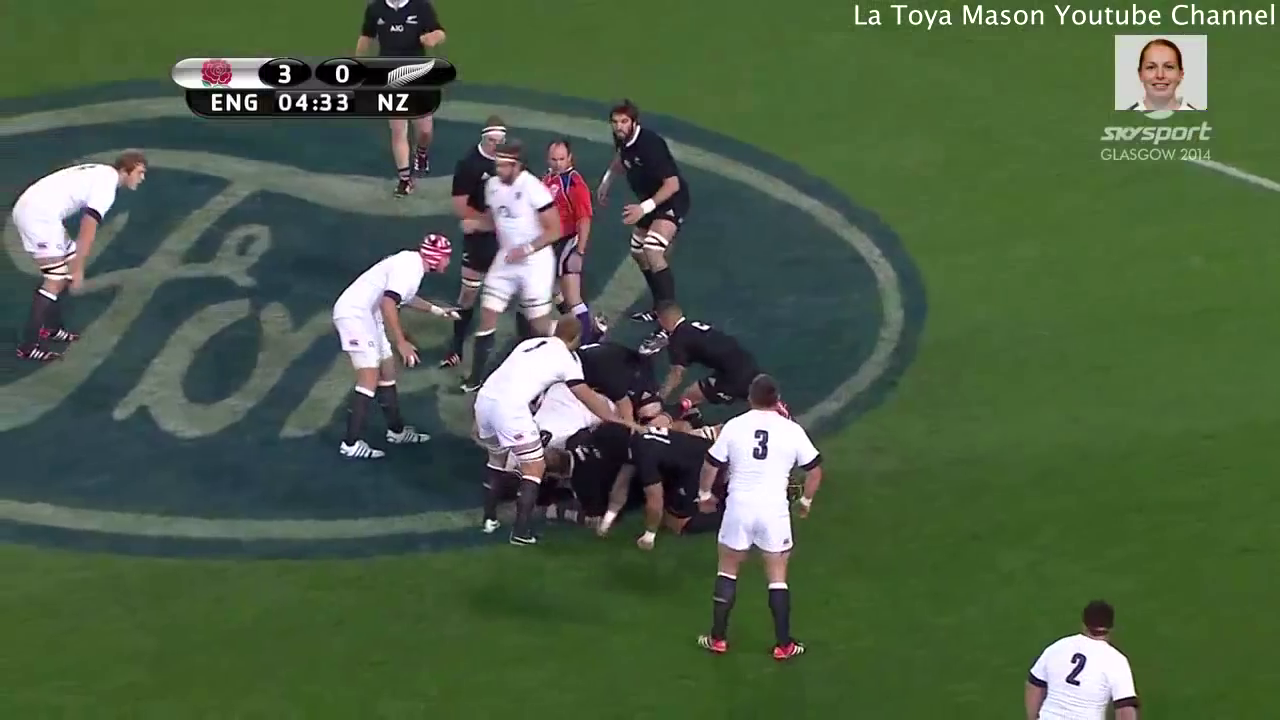player: (696, 368, 829, 665), (1, 148, 158, 372), (324, 235, 465, 464), (472, 313, 598, 553), (465, 148, 569, 407), (594, 92, 694, 354), (649, 300, 797, 436), (1017, 593, 1148, 720), (536, 140, 601, 357), (444, 113, 497, 371)
ruck: (449, 303, 828, 532)
